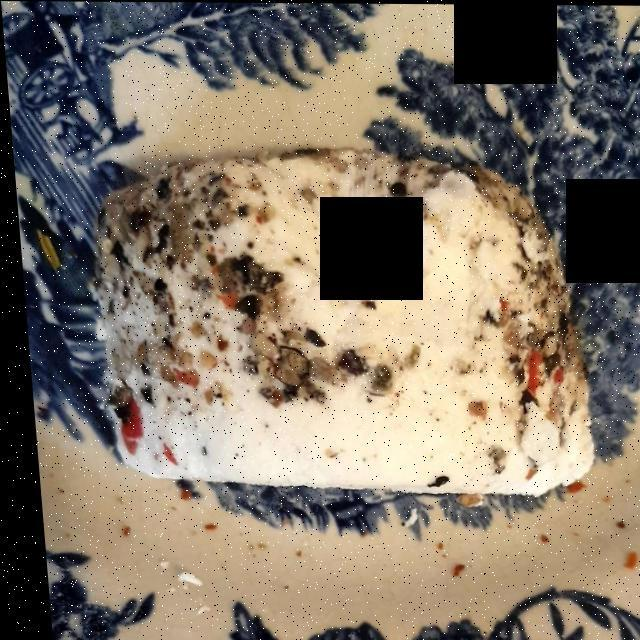cheese: (92, 150, 578, 487)
